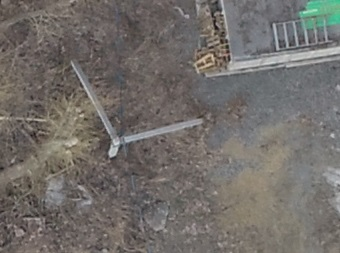opora: (69, 57, 205, 160)
